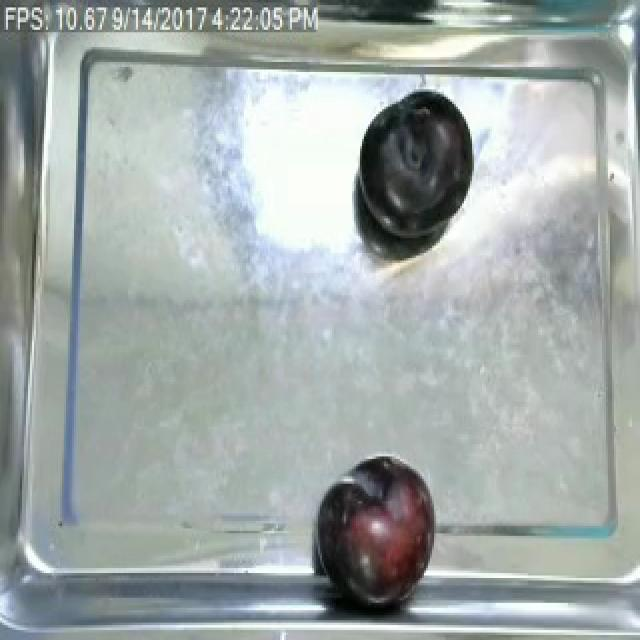Fruit: (310, 449, 444, 618), (352, 92, 478, 246)
